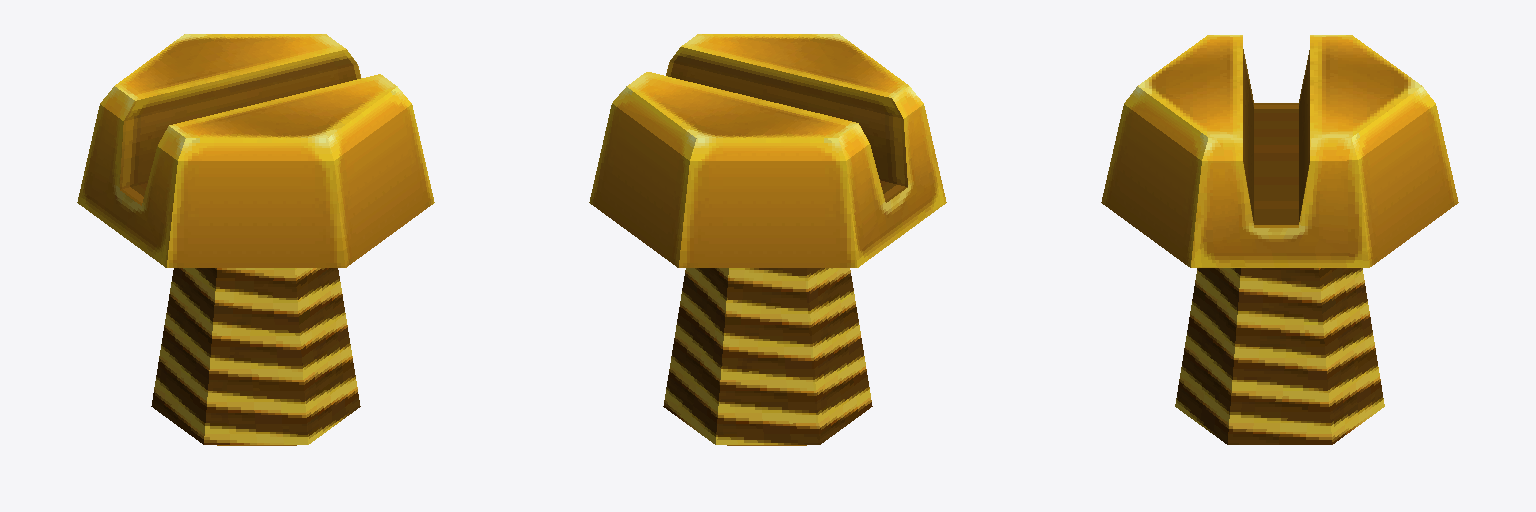
The picture shows the model from 3 angles: view 1: azimuth 30°, elevation 25°; view 2: azimuth 150°, elevation 25°; view 3: azimuth 270°, elevation 25°; orthographic projection.
Parts seen in each view (by area): view 1: Object01; view 2: Object01; view 3: Object01.
Part boxes in pixels (bbox=[...]): Object01: bbox=[77, 34, 434, 445]; Object01: bbox=[589, 34, 946, 445]; Object01: bbox=[1101, 35, 1458, 444].
Bounding box in the file's own units: 21.64 × 26.2 × 24.99.
1 materials, 1 textured.